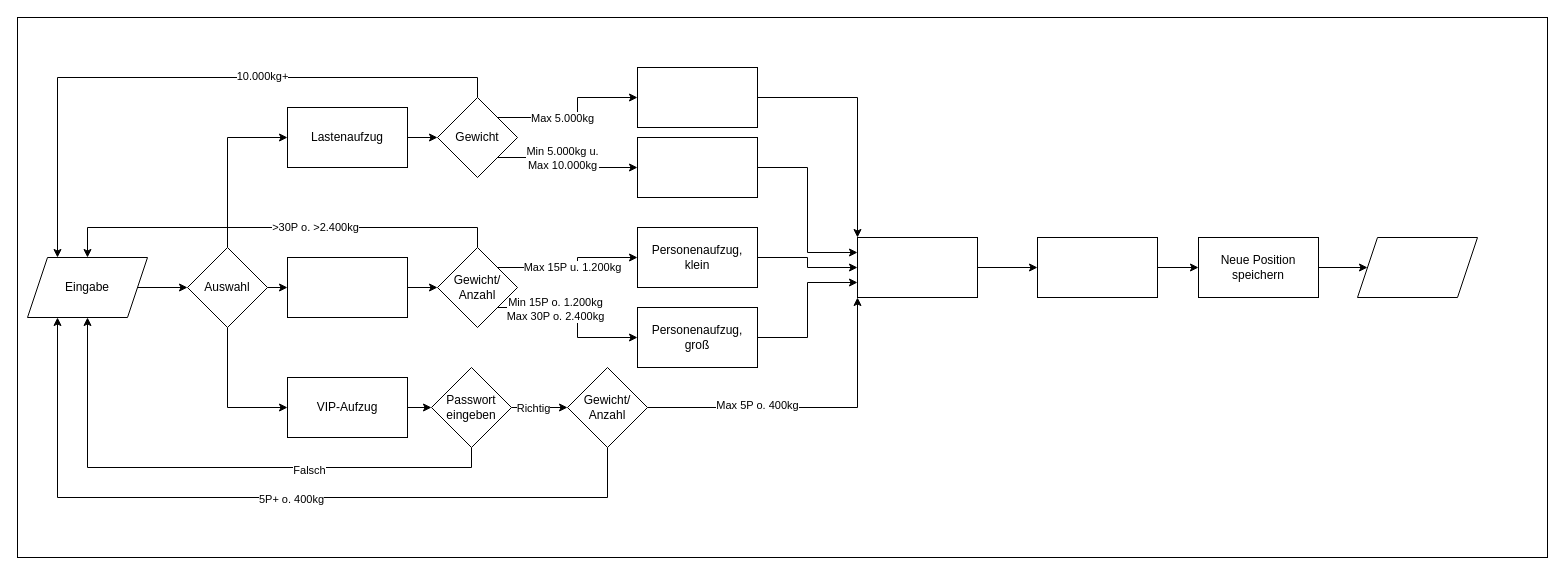
Some shapes in this 1565 by 575 pixel diagram are drawn without their labels. The shapes that lost their labels are listed below. From the top down, each one's centre as x and y in pixels, then its label:
At [697,97]: "Lastenaufzug, klein".
At [697,167]: "Lastenaufzug, groß".
At [347,287]: "Personenaufzug".
At [917,267]: "Stockwerk wählen".
At [1097,267]: "Nächsten Aufzug suchen und rufen".
At [1417,267]: "Ende".
